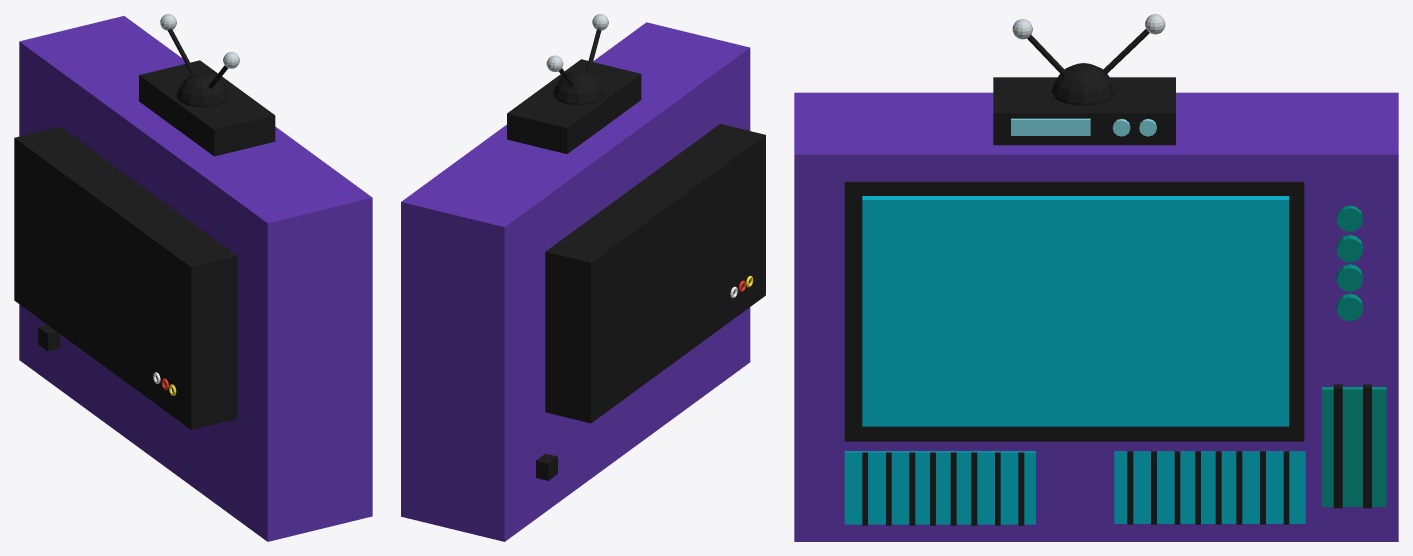
File: NostalgicTV.glb
The picture shows the model from 3 angles, left to right: view 1: azimuth 30°, elevation 25°; view 2: azimuth 150°, elevation 25°; view 3: azimuth 270°, elevation 25°; orthographic projection. The views are drawn at different scales.
Visible parts, largest first — view 1: group1644679772, group1172362577, group64073693, group658335112, group1722115290, group1637710798; view 2: group1644679772, group1172362577, group64073693, group658335112, group1722115290, group1637710798; view 3: group1644679772, group633742398, group248682277, group795845272, group870659153, group658335112, group1019775300, group64073693, group1722115290, group2025910055, group1134758960, group1939203086.
Boxes of the visible parts, x1=… form: group1644679772: x1=19, y1=16, x2=372, y2=541; group1172362577: x1=14, y1=126, x2=237, y2=429; group64073693: x1=139, y1=67, x2=245, y2=156; group658335112: x1=171, y1=60, x2=275, y2=148; group1722115290: x1=176, y1=72, x2=229, y2=107; group1637710798: x1=38, y1=324, x2=60, y2=351; group1644679772: x1=401, y1=22, x2=750, y2=541; group1172362577: x1=545, y1=124, x2=765, y2=423; group64073693: x1=536, y1=66, x2=641, y2=153; group658335112: x1=507, y1=59, x2=609, y2=146; group1722115290: x1=553, y1=70, x2=604, y2=105; group1637710798: x1=536, y1=453, x2=557, y2=480; group1644679772: x1=794, y1=92, x2=1398, y2=541; group633742398: x1=862, y1=196, x2=1289, y2=426; group248682277: x1=844, y1=181, x2=1304, y2=441; group795845272: x1=844, y1=451, x2=1035, y2=524; group870659153: x1=1114, y1=451, x2=1305, y2=523; group658335112: x1=993, y1=94, x2=1175, y2=145; group1019775300: x1=1322, y1=387, x2=1386, y2=506; group64073693: x1=993, y1=77, x2=1175, y2=95; group1722115290: x1=1051, y1=63, x2=1115, y2=105; group2025910055: x1=1011, y1=118, x2=1090, y2=135; group1134758960: x1=1333, y1=391, x2=1342, y2=508; group1939203086: x1=1363, y1=391, x2=1371, y2=508.
Size of the model in its own units: 0.7713 by 1.85 by 2.05.
